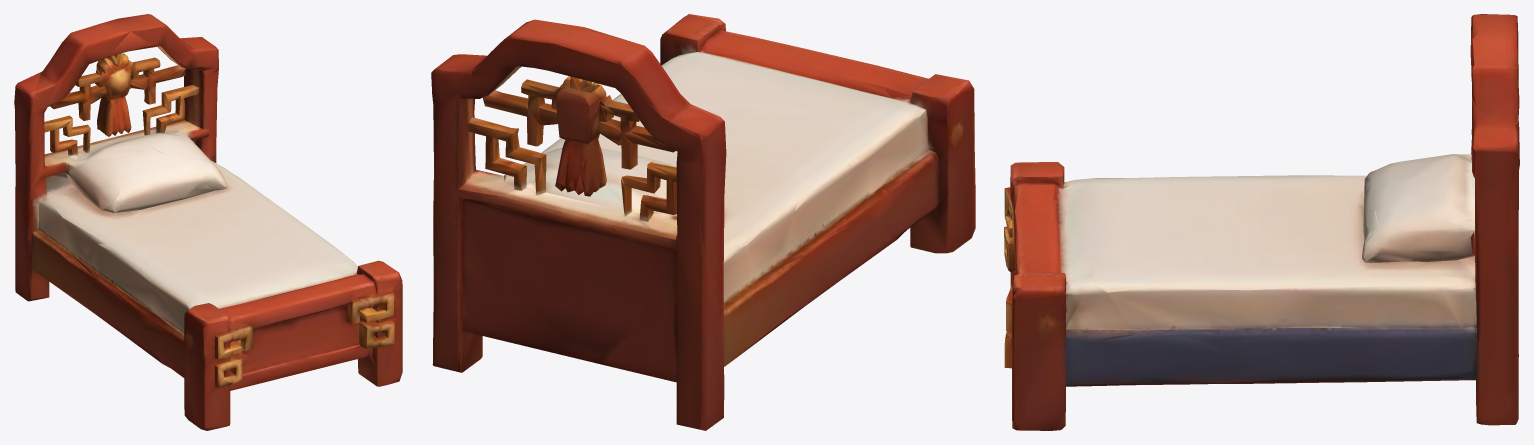
File: bed13.glb
3 views of the same model, side by side, from view 1: azimuth 30°, elevation 25°; view 2: azimuth 150°, elevation 25°; view 3: azimuth 270°, elevation 25° (orthographic). The views are drawn at different scales.
Size of the model in its own units: 0.164 by 0.1925 by 0.272.
1 material, 1 textured.
